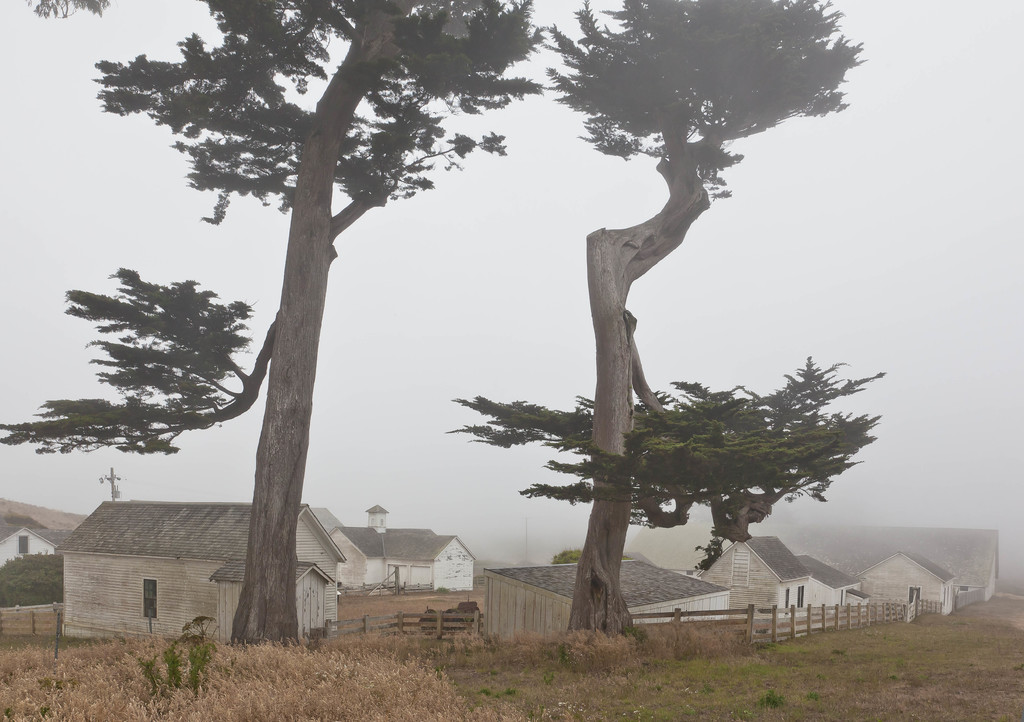Tree: (0, 0, 548, 646), (442, 0, 888, 636)
